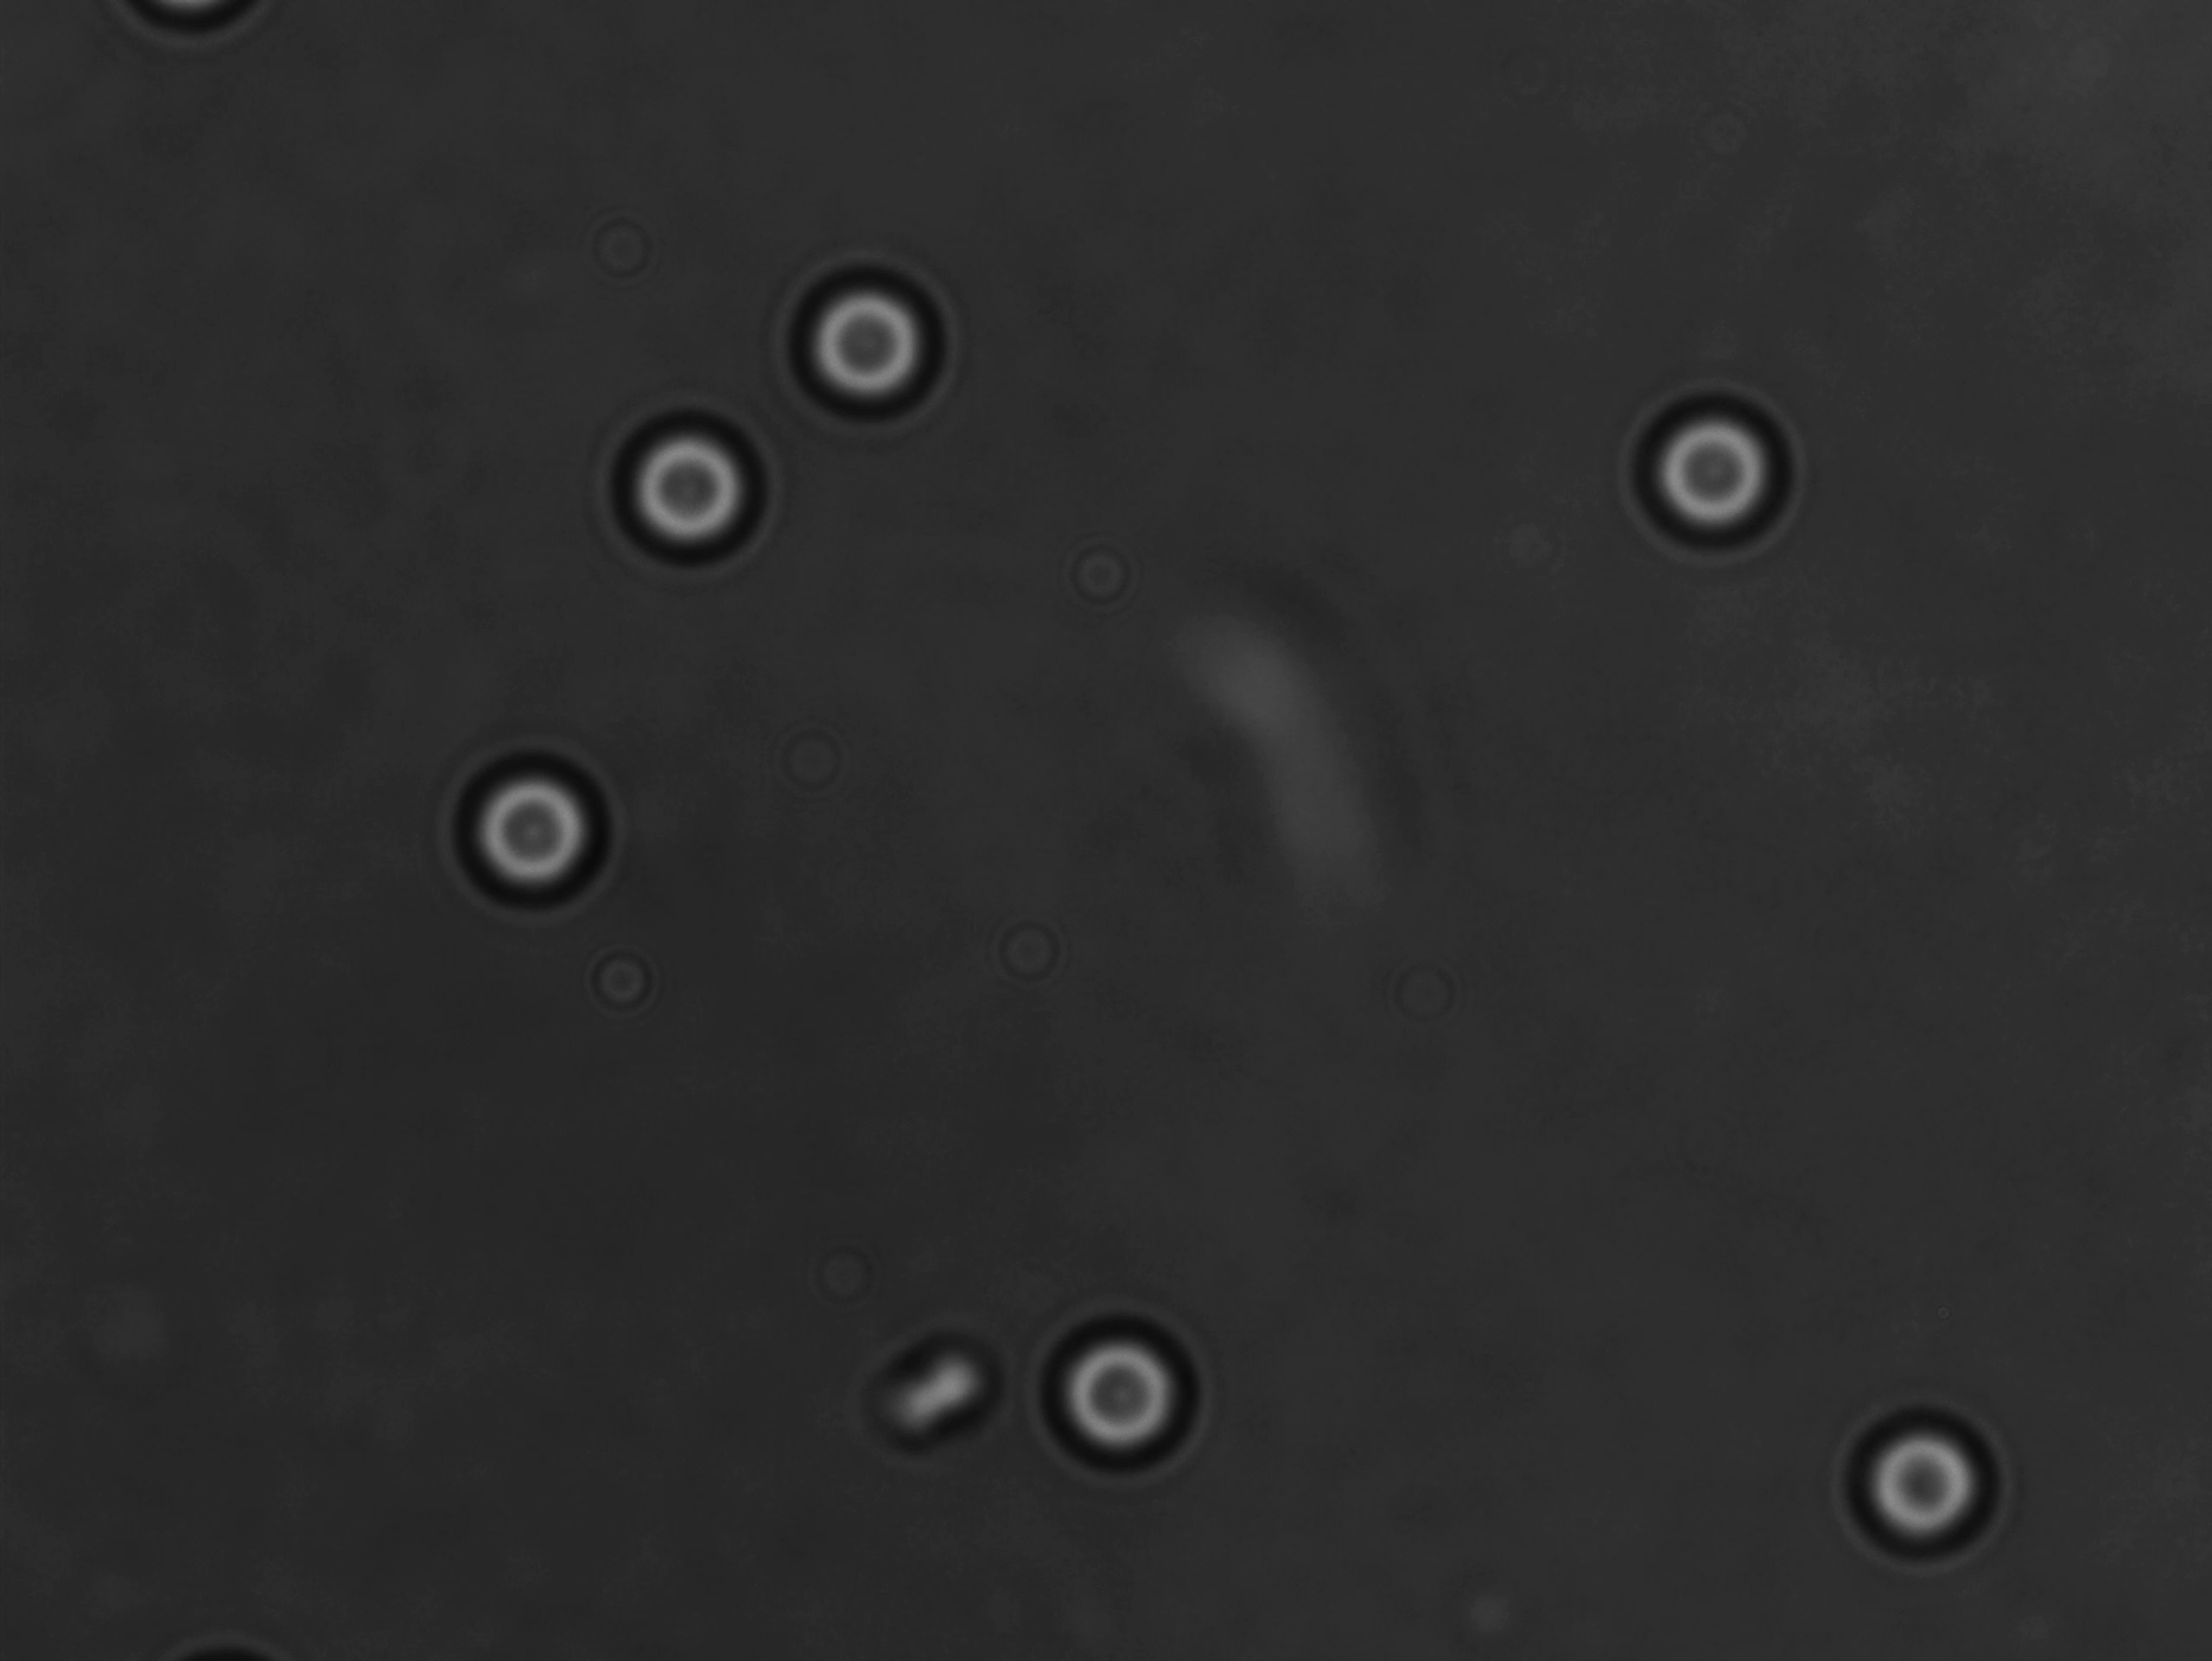depth:40: (1615, 384, 1807, 584), (438, 748, 625, 916), (1022, 1307, 1197, 1480)
depth:60: (792, 253, 956, 426), (619, 414, 785, 572), (1847, 1392, 2011, 1551)
